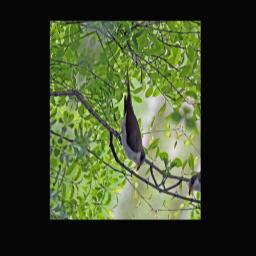Cuckoo: (95, 64, 170, 174)
